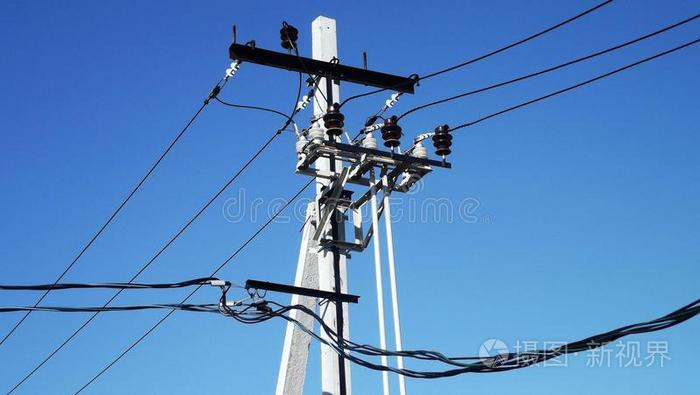insulator: (321, 110, 347, 136), (431, 130, 456, 157), (382, 122, 404, 145), (279, 26, 301, 49)
